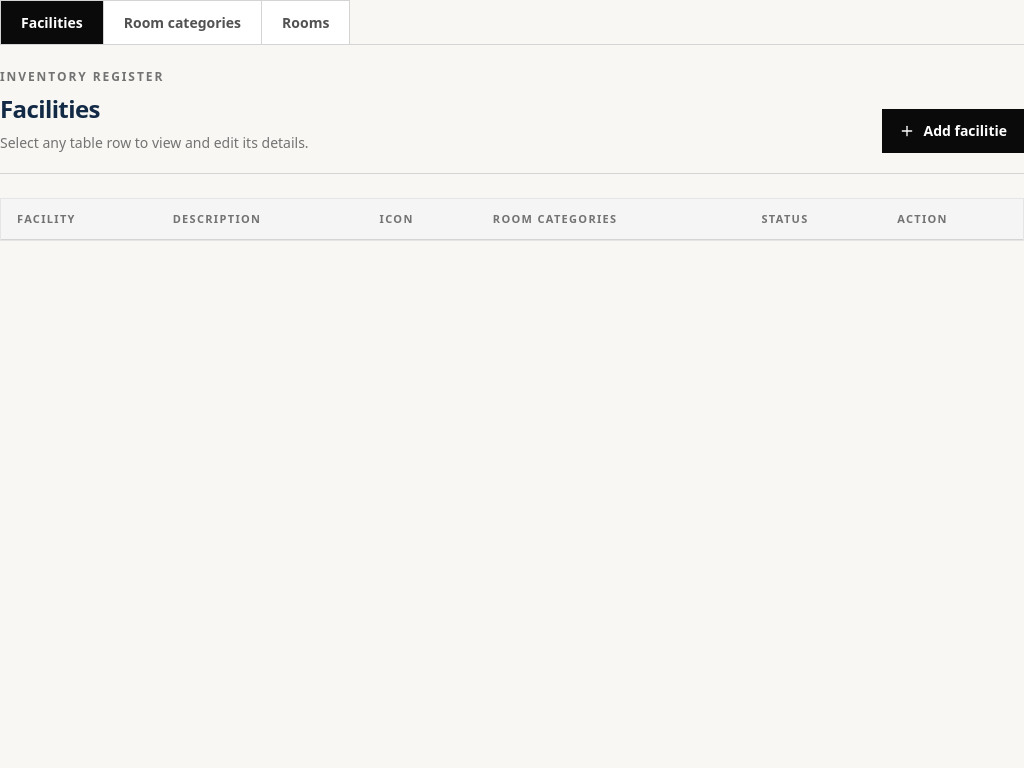
Test: InventoryManager room image controls › keeps images inside the selected physical room
The image size is (1024, 768).
Click the tab "Rooms": point(306, 22) x1=262 y1=0 x2=350 y2=44
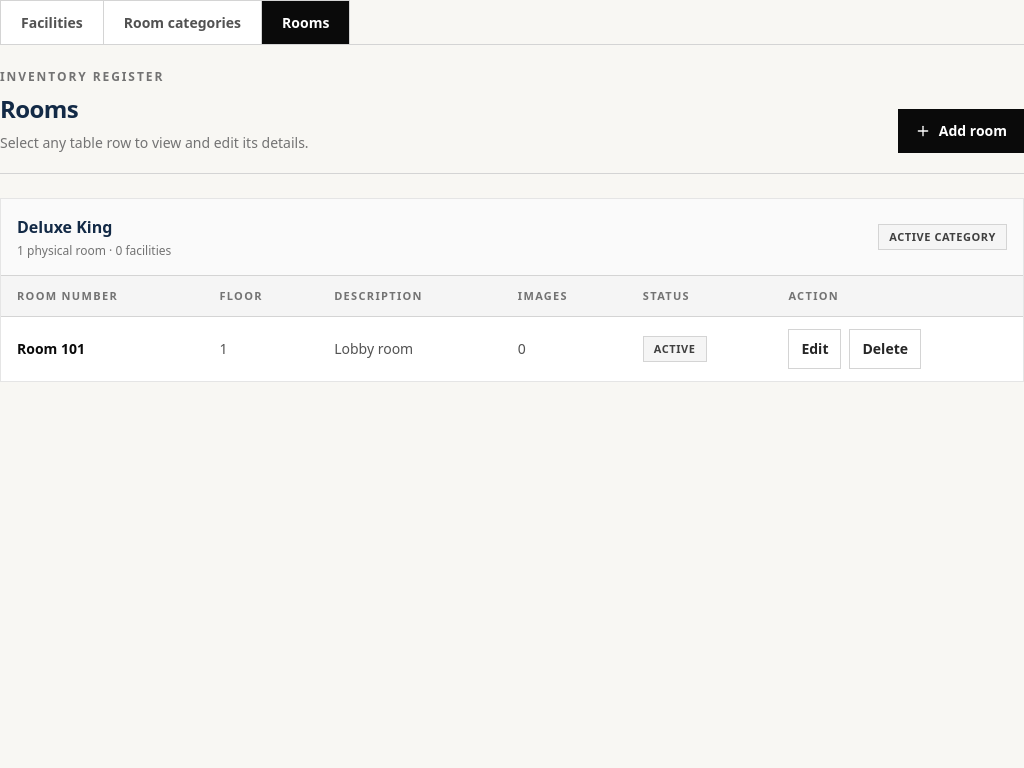
Click the text "Room 101": point(39, 348) x1=1 y1=316 x2=203 y2=381
(page scrolled)
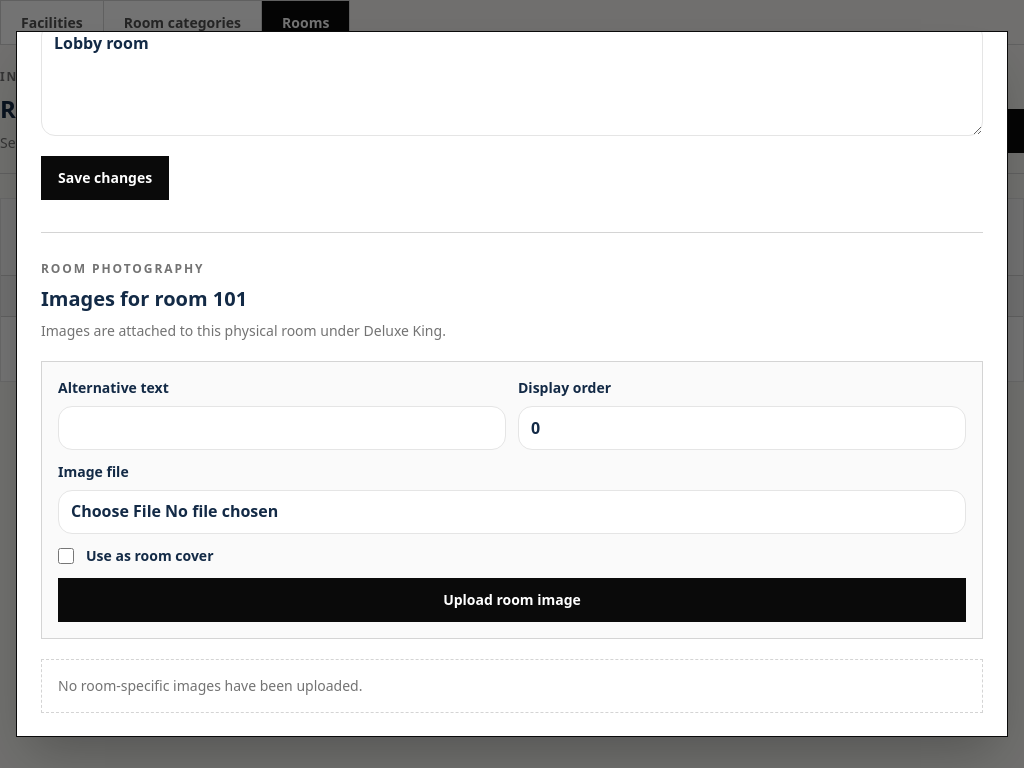
Expected: the heading "Images for room 101" is shown, x1=41 y1=285 x2=247 y2=312
Expected: the file field labelled "Image file" is enabled, x1=58 y1=490 x2=966 y2=534
Expected: the button "Upload room image" is enabled, x1=58 y1=578 x2=966 y2=622
